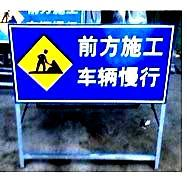sign: (9, 25, 171, 103)
